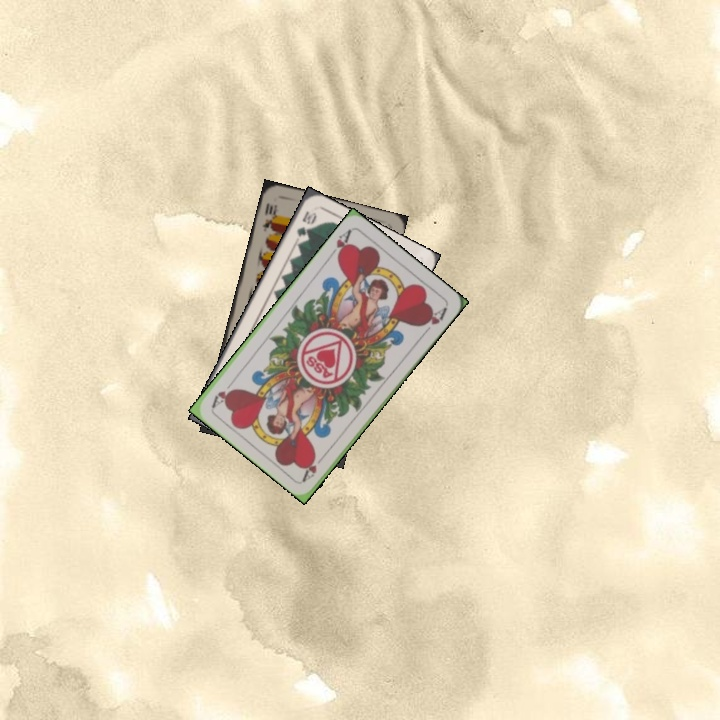E10: (258, 199, 280, 234)
G10: (292, 207, 319, 246)
HA: (324, 225, 354, 262), (299, 449, 329, 483)
